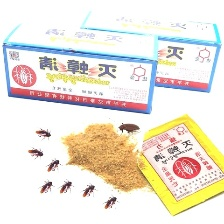book: (0, 16, 163, 119), (74, 9, 224, 95)
insecticide: (131, 112, 224, 216)
